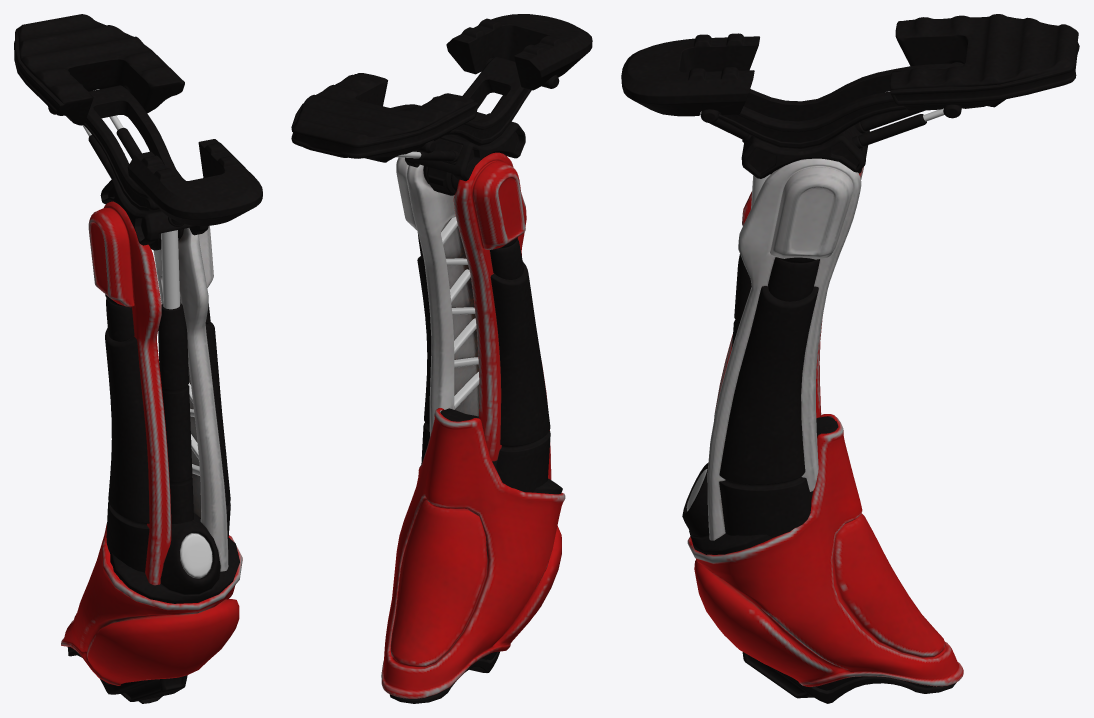
The model's file is rightShin.glb.
The picture shows the model from 3 angles, left to right: view 1: azimuth 30°, elevation 25°; view 2: azimuth 150°, elevation 25°; view 3: azimuth 270°, elevation 25°; orthographic projection. The views are drawn at different scales.
Parts seen in each view (by area): view 1: polySurface387, polySurface86, polySurface393, polySurface390, polySurface392, polySurface388, polySurface51, polySurface385, polySurface401, polySurface389, polySurface136; view 2: polySurface393, polySurface387, polySurface86, polySurface390, polySurface51, polySurface385, polySurface391, polySurface401, polySurface386, polySurface392, polySurface136; view 3: polySurface393, polySurface86, polySurface390, polySurface387, polySurface51, polySurface385, polySurface392, polySurface401, polySurface136, polySurface388.
Part boxes in pixels (x1=…): polySurface387: x1=88, y1=201, x2=228, y2=585; polySurface86: x1=14, y1=14, x2=262, y2=225; polySurface393: x1=61, y1=523, x2=242, y2=685; polySurface390: x1=105, y1=294, x2=230, y2=572; polySurface392: x1=110, y1=512, x2=239, y2=603; polySurface388: x1=158, y1=303, x2=193, y2=523; polySurface51: x1=84, y1=85, x2=185, y2=212; polySurface385: x1=100, y1=177, x2=208, y2=245; polySurface401: x1=67, y1=647, x2=187, y2=703; polySurface389: x1=161, y1=230, x2=180, y2=309; polySurface136: x1=88, y1=127, x2=183, y2=226; polySurface393: x1=381, y1=408, x2=565, y2=698; polySurface387: x1=396, y1=152, x2=551, y2=479; polySurface86: x1=291, y1=14, x2=592, y2=162; polySurface390: x1=417, y1=232, x2=550, y2=492; polySurface51: x1=391, y1=57, x2=531, y2=145; polySurface385: x1=405, y1=112, x2=525, y2=181; polySurface391: x1=441, y1=217, x2=479, y2=409; polySurface401: x1=389, y1=651, x2=500, y2=703; polySurface386: x1=423, y1=166, x2=459, y2=195; polySurface392: x1=440, y1=408, x2=562, y2=494; polySurface136: x1=413, y1=95, x2=505, y2=162; polySurface393: x1=687, y1=414, x2=963, y2=686; polySurface86: x1=621, y1=14, x2=1079, y2=116; polySurface390: x1=719, y1=257, x2=819, y2=537; polySurface387: x1=707, y1=158, x2=863, y2=540; polySurface51: x1=718, y1=63, x2=963, y2=148; polySurface385: x1=741, y1=125, x2=869, y2=178; polySurface392: x1=682, y1=416, x2=838, y2=554; polySurface401: x1=742, y1=652, x2=956, y2=703; polySurface136: x1=709, y1=109, x2=926, y2=148; polySurface388: x1=732, y1=254, x2=751, y2=347.
Bounding box in the file's own units: 0.3954 × 1.58 × 0.985.
Materials: 1 (1 with a texture image).
